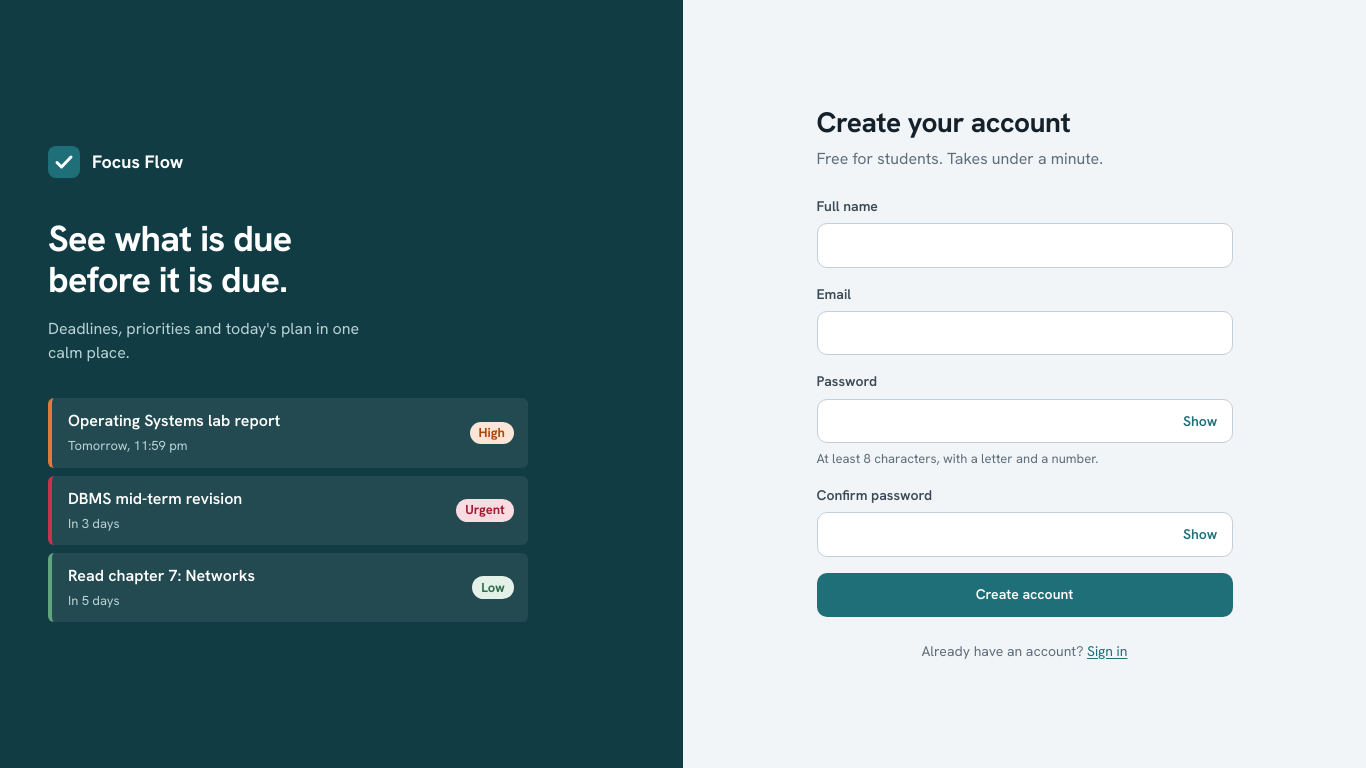
Test: sign up › creates the account and enters the app
Type "Tanay Kulkarni" into the field labelled "Full name".
click(1024, 246); type("Tanay Kulkarni")  # box [816, 223, 1232, 268]
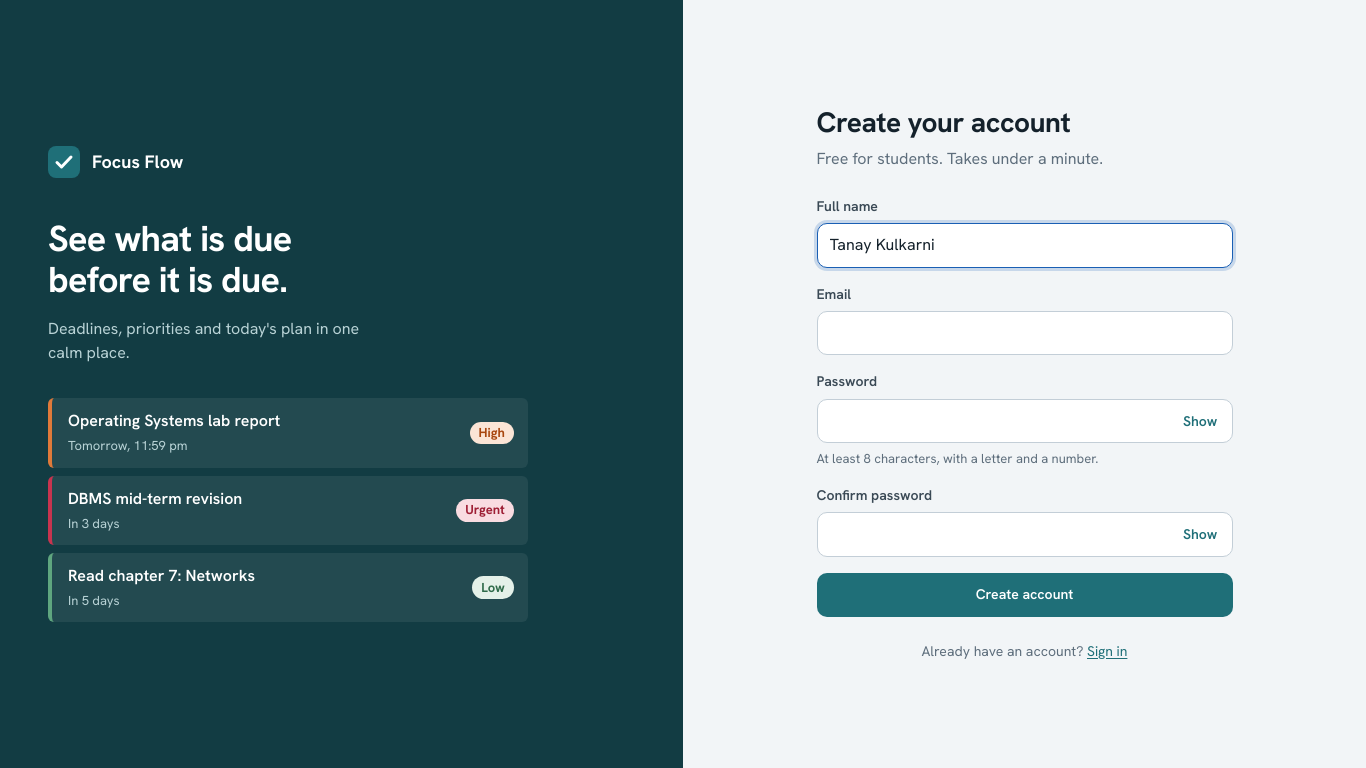
Type "t@x.com" into the field labelled "Email".
click(1024, 333); type("t@x.com")  # box [816, 311, 1232, 356]
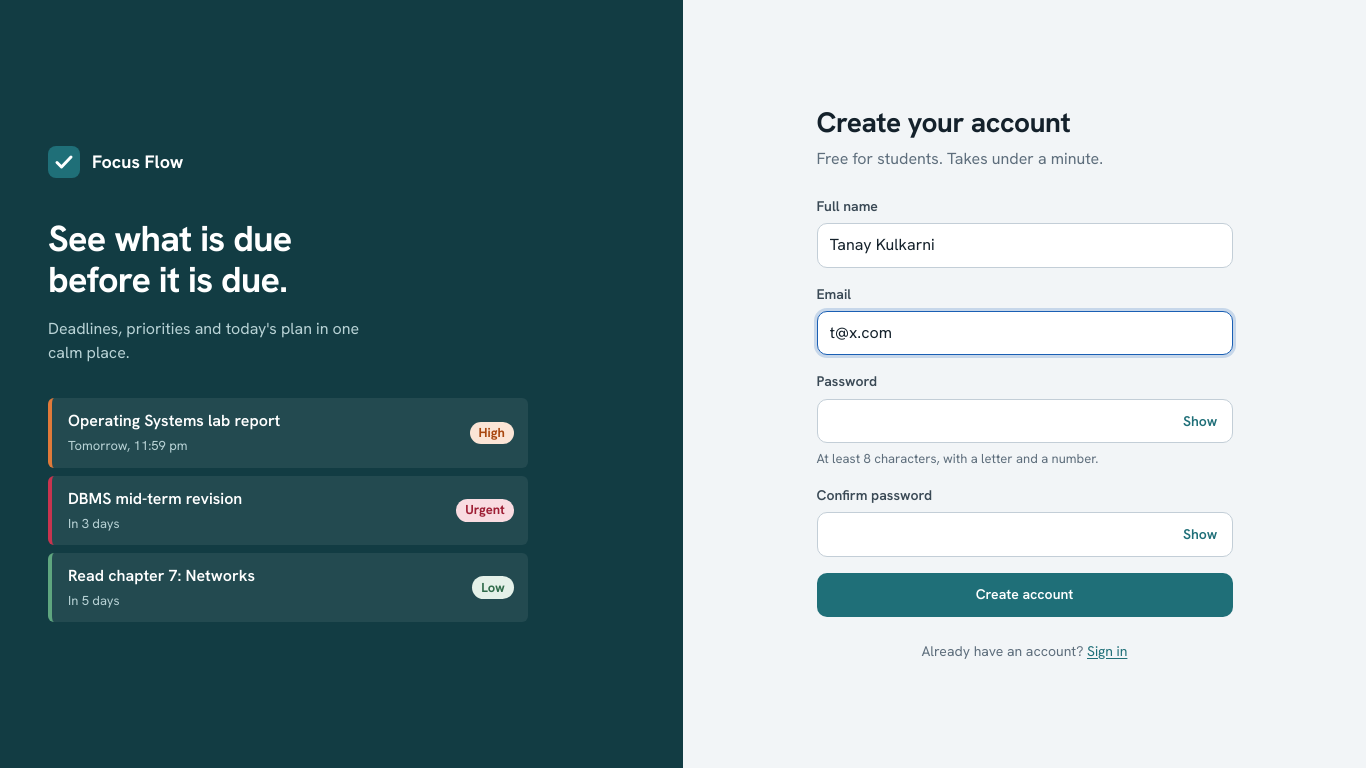
Type "Focus1234" into the password field labelled "Password".
click(1024, 421); type("Focus1234")  # box [816, 399, 1232, 443]
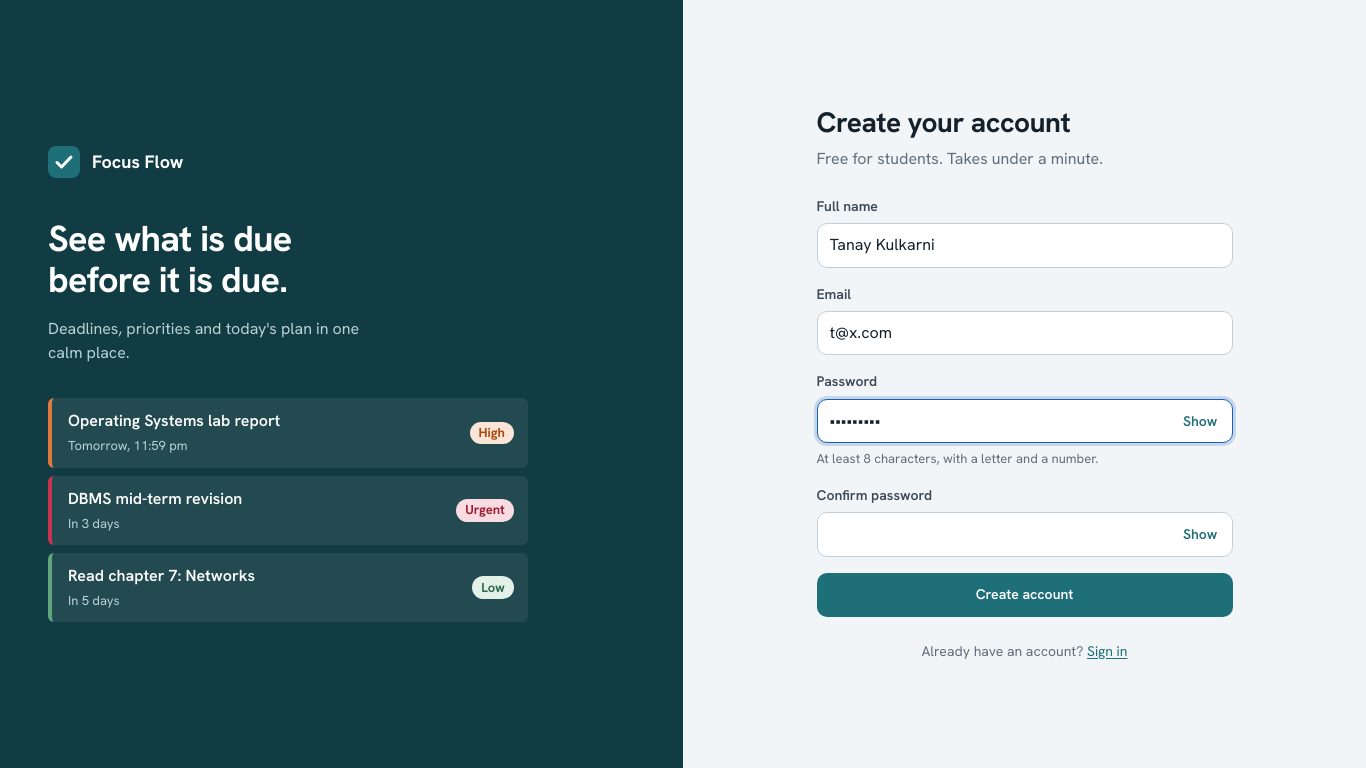
Type "Focus1234" into the password field labelled "Confirm password".
click(1024, 534); type("Focus1234")  # box [816, 512, 1232, 557]
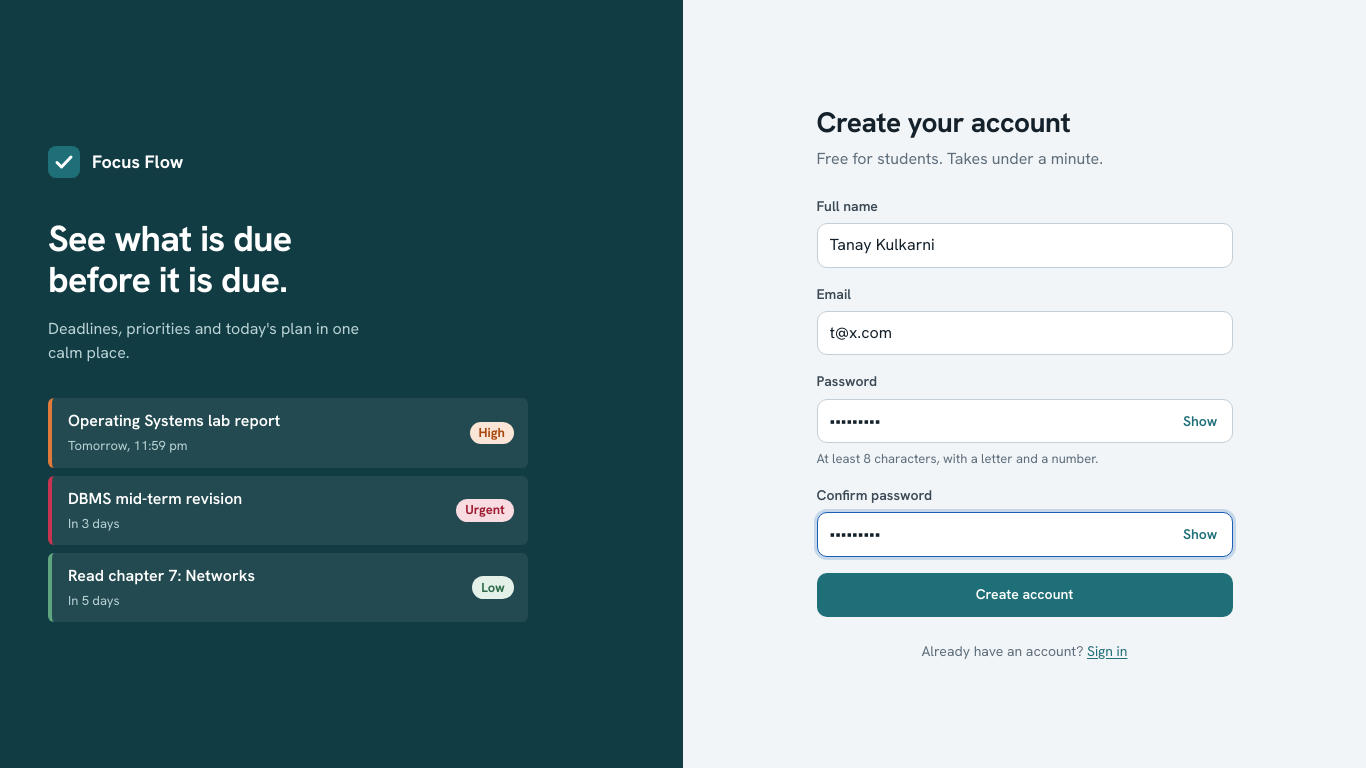
Click the button "Create account".
click(1024, 595)  # box [816, 573, 1232, 617]
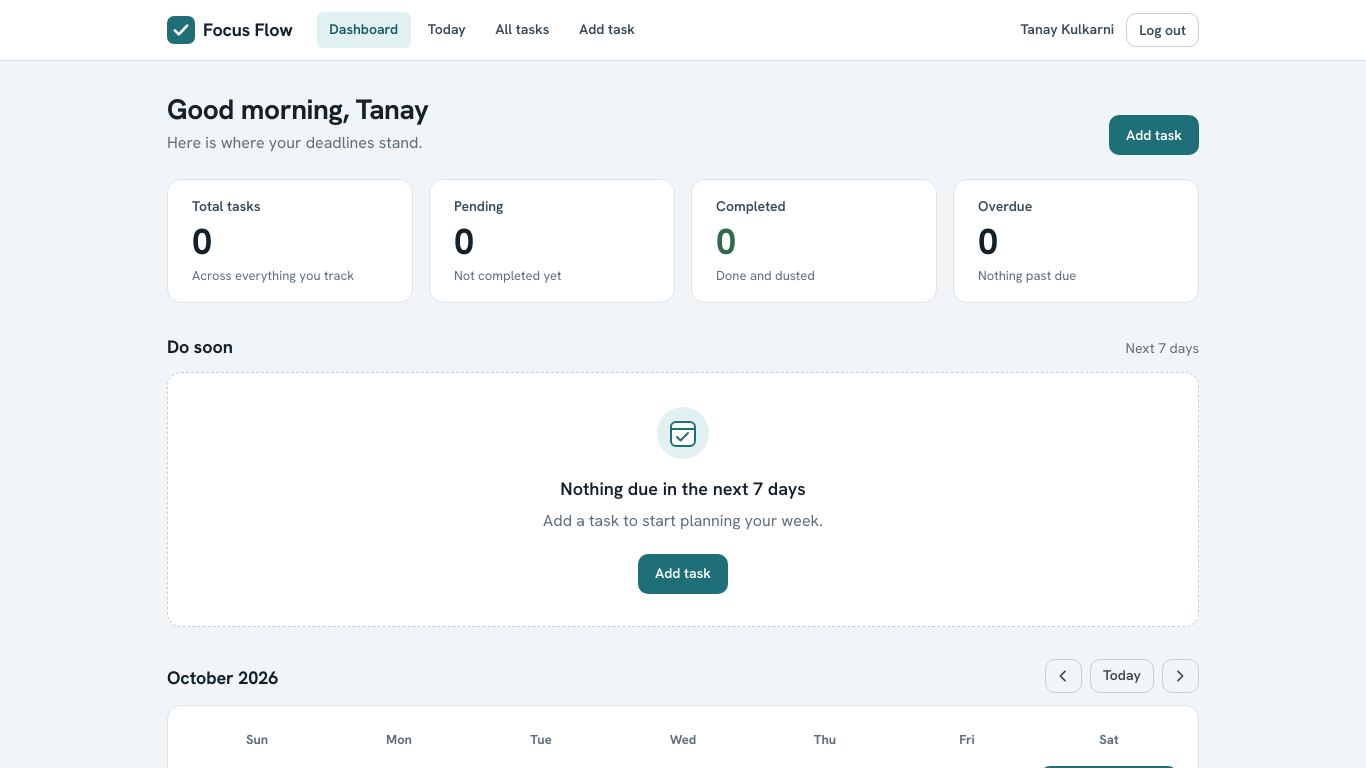
Now the heading "Good morning, Tanay" is shown, box [167, 93, 428, 127]
